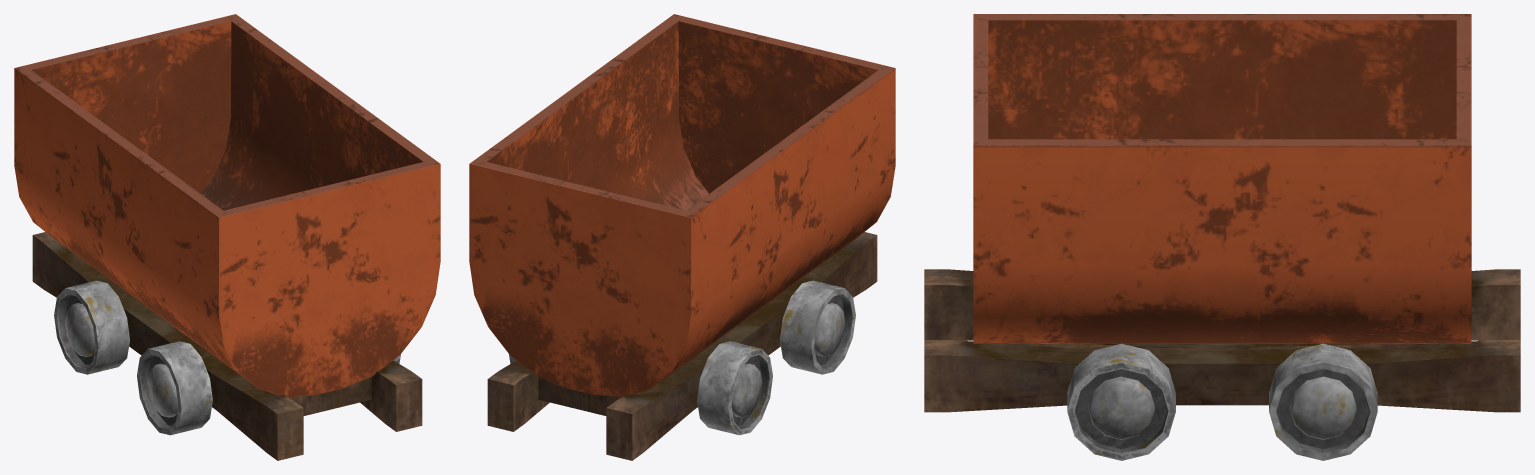
The model's file is dolly-000.fbx.
The picture shows the model from 3 angles, left to right: view 1: azimuth 30°, elevation 25°; view 2: azimuth 150°, elevation 25°; view 3: azimuth 270°, elevation 25°; orthographic projection. The views are drawn at different scales.
Parts seen in each view (by area): view 1: body.001; view 2: body.001; view 3: body.001.
Part boxes in pixels (x1,y1,x2,y2): body.001: (14,14,440,460); body.001: (469,14,895,460); body.001: (924,14,1520,460).
Size of the model in its own units: 106 by 115 by 197.
Materials: 1 (1 with a texture image).
